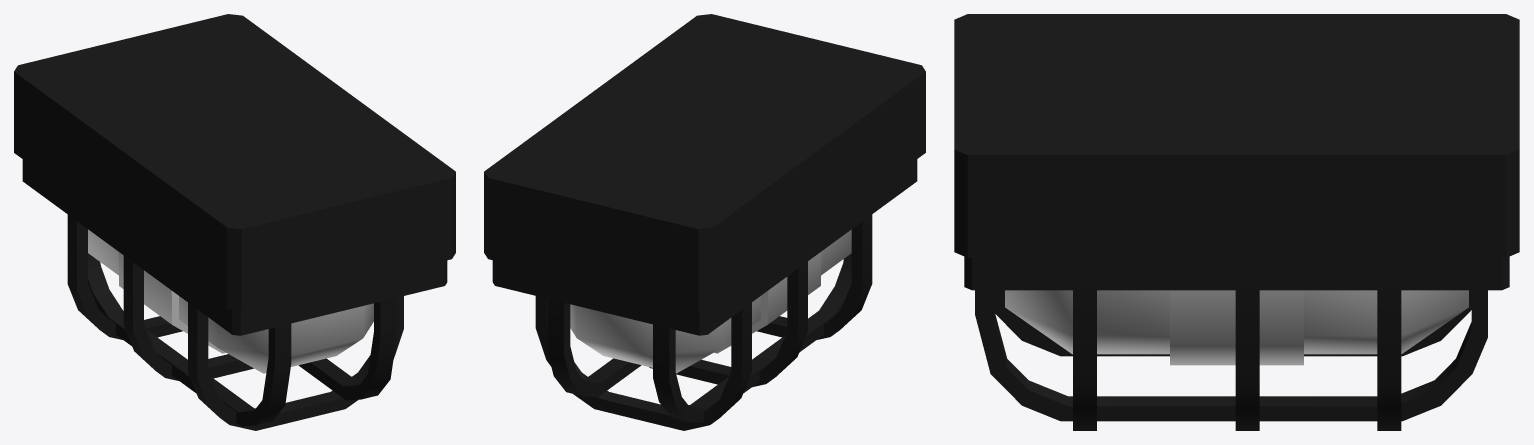
The model's file is lamp.FBX.
3 renders of one model, left to right at view 1: azimuth 30°, elevation 25°; view 2: azimuth 150°, elevation 25°; view 3: azimuth 270°, elevation 25°, orthographic. The views are drawn at different scales.
Parts seen in each view (by area): view 1: Lamp; view 2: Lamp; view 3: Lamp.
Part boxes in pixels (box(x1,y1,x2,y2)): Lamp: box(14, 14, 455, 430); Lamp: box(484, 14, 925, 430); Lamp: box(954, 14, 1519, 430).
Size of the model in its own units: 32.92 by 55.75 by 34.52.
